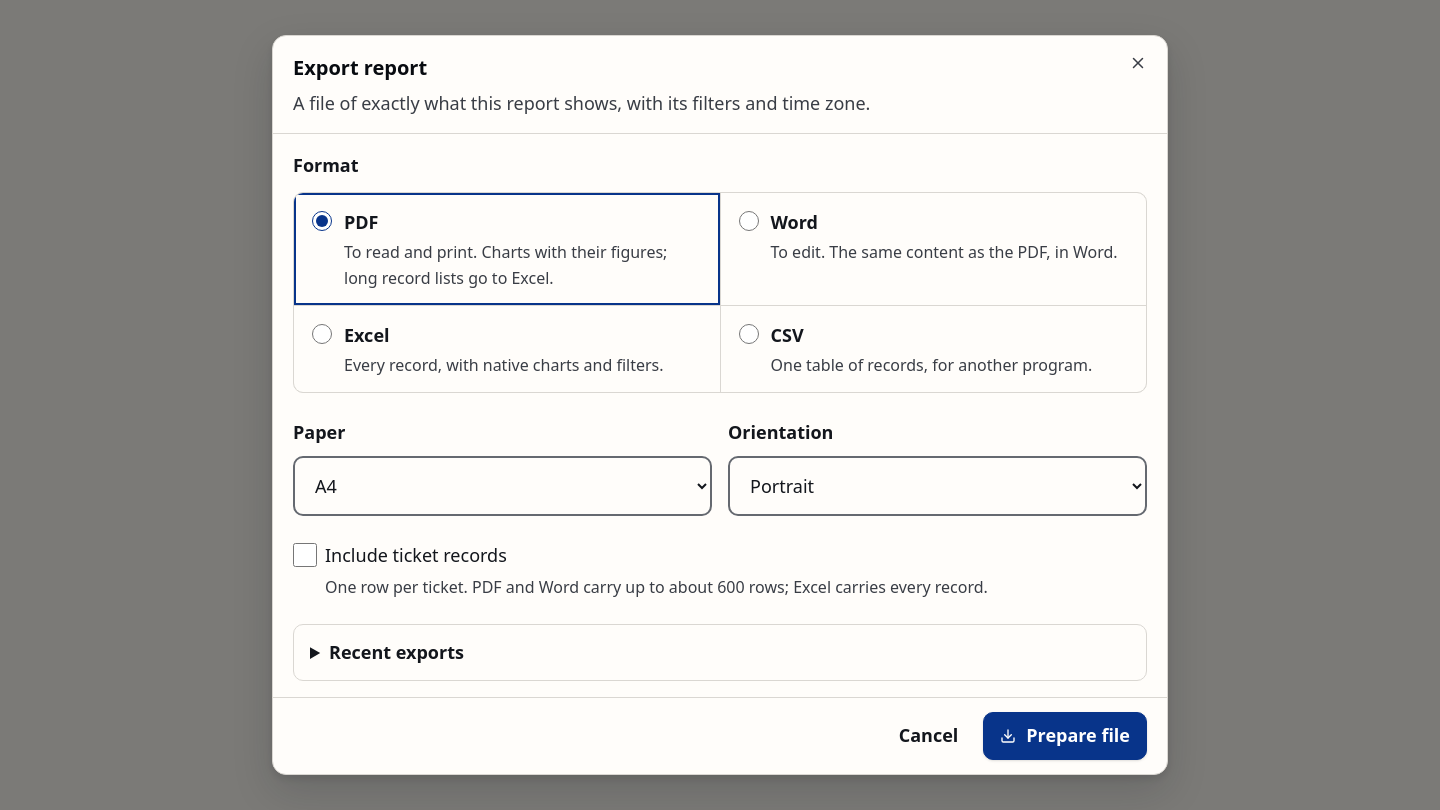
Test case: ExportDialog › offers paper and orientation only for the paged formats
Expected: the dropdown labelled "Paper" is shown, [293,456,712,516]
What coordinates should you click on to do the following:
click the radio button labelled "Excel Every record, with native charts and filters."
I would click on:
 (322, 334)
Its box is [312,324,332,344].
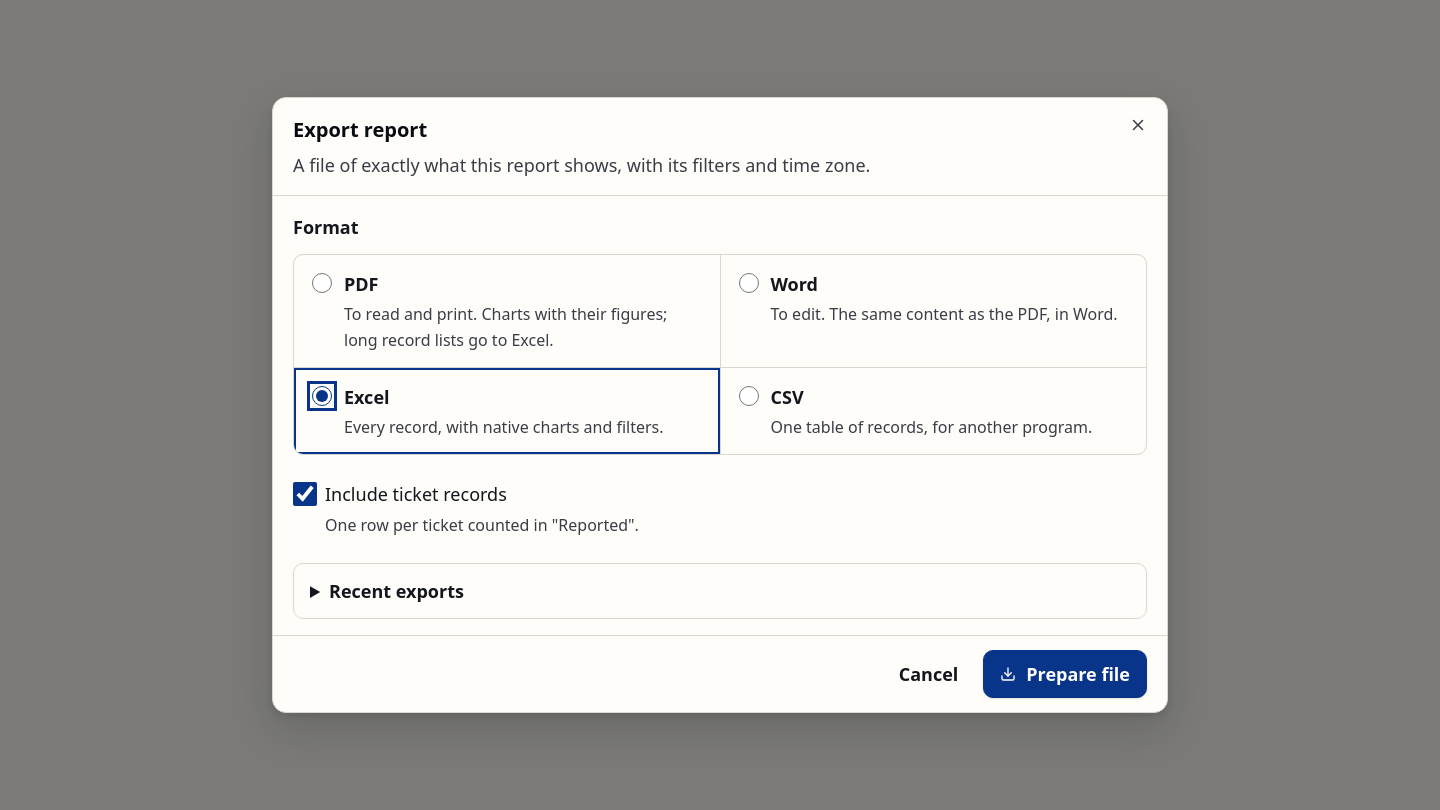
Now the text "Paper" is gone
Now the checkbox labelled "Include ticket records" is checked, box [293,482,317,506]
